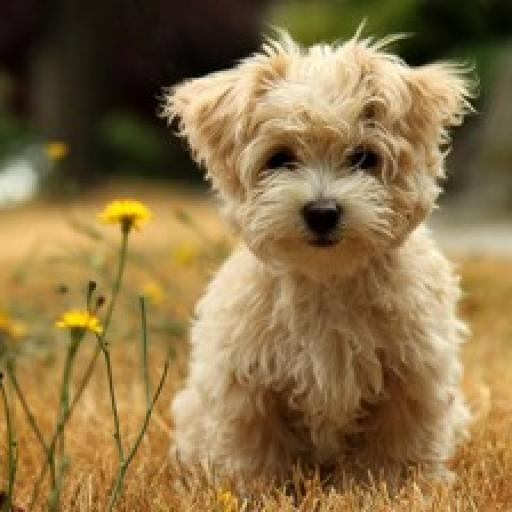dog: (158, 15, 486, 498)
